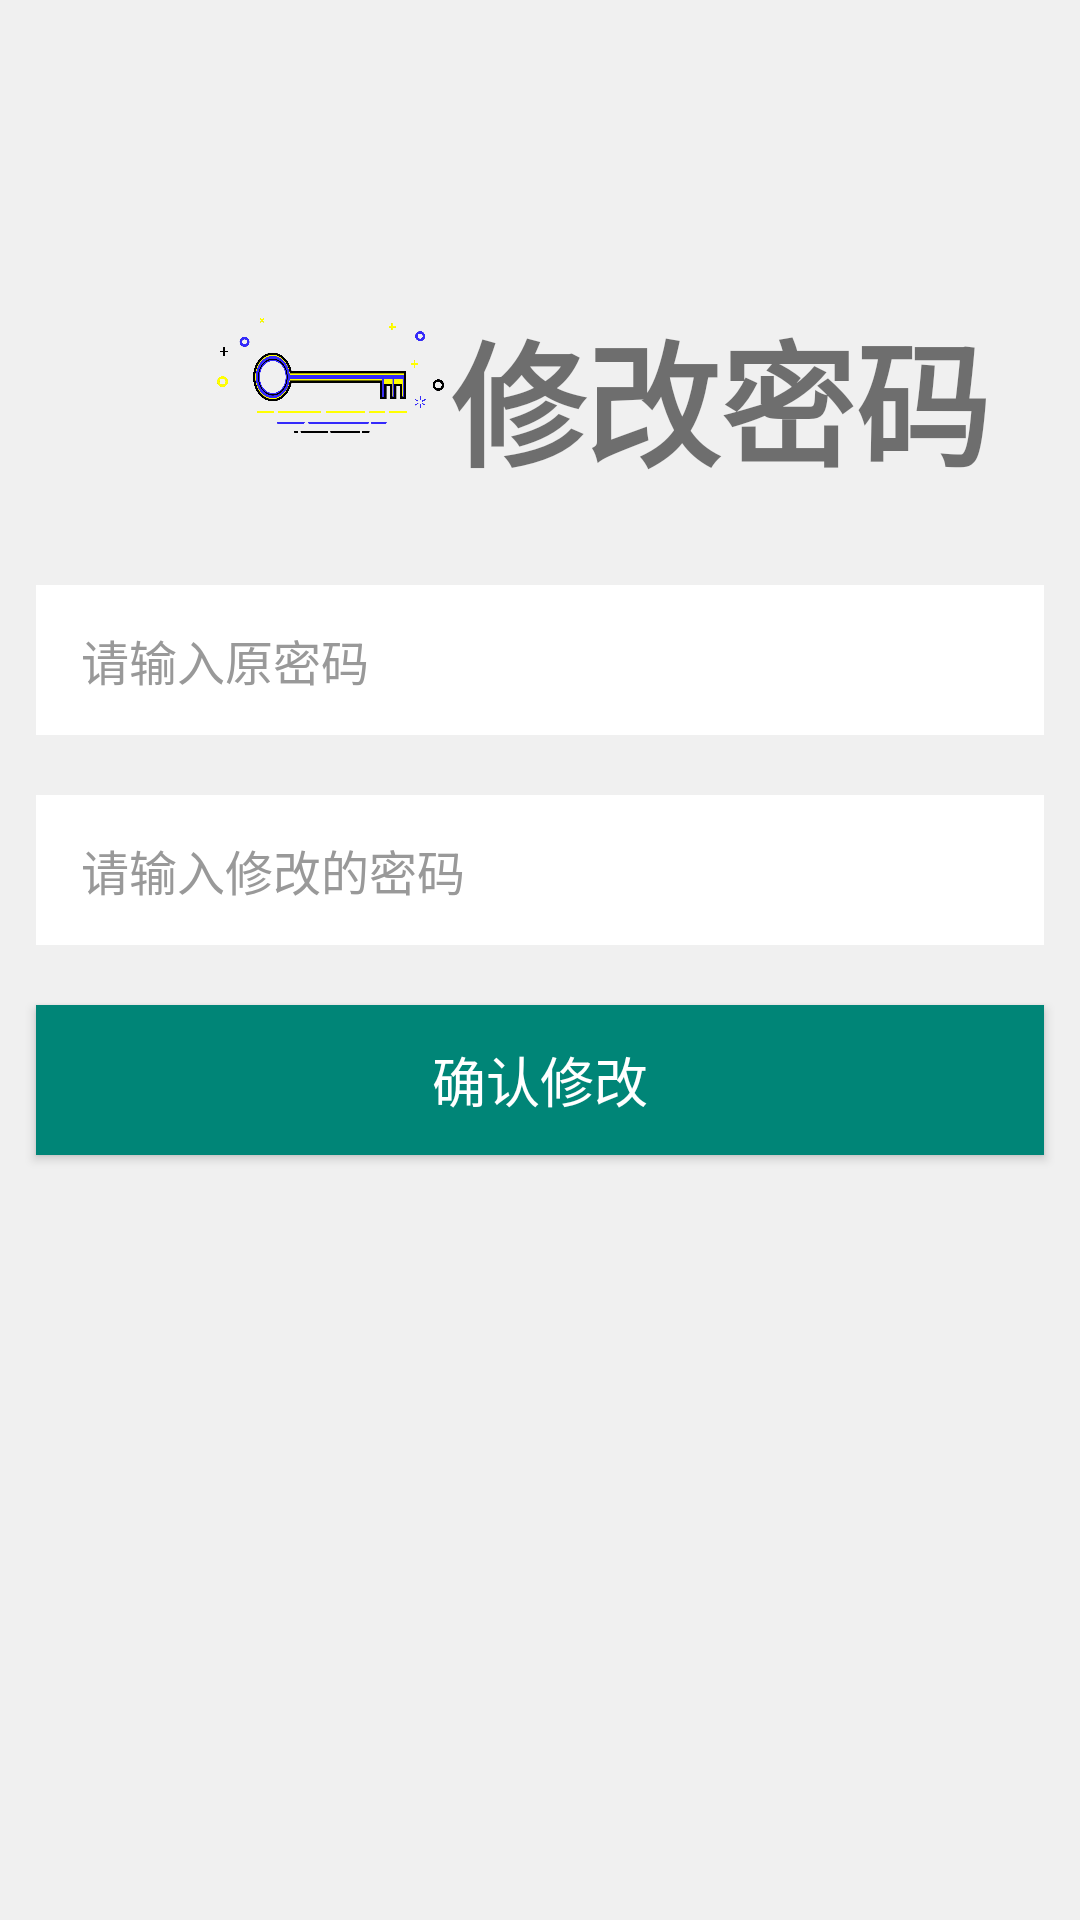

Screen size 1080 × 1920. Icon name, then its center in pixels as (x=x, y=y):
change password: (x=330, y=375)
